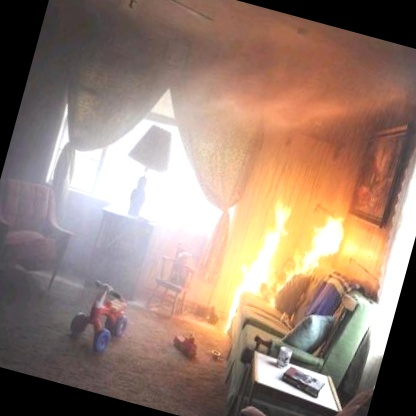fire: (204, 146, 369, 342)
